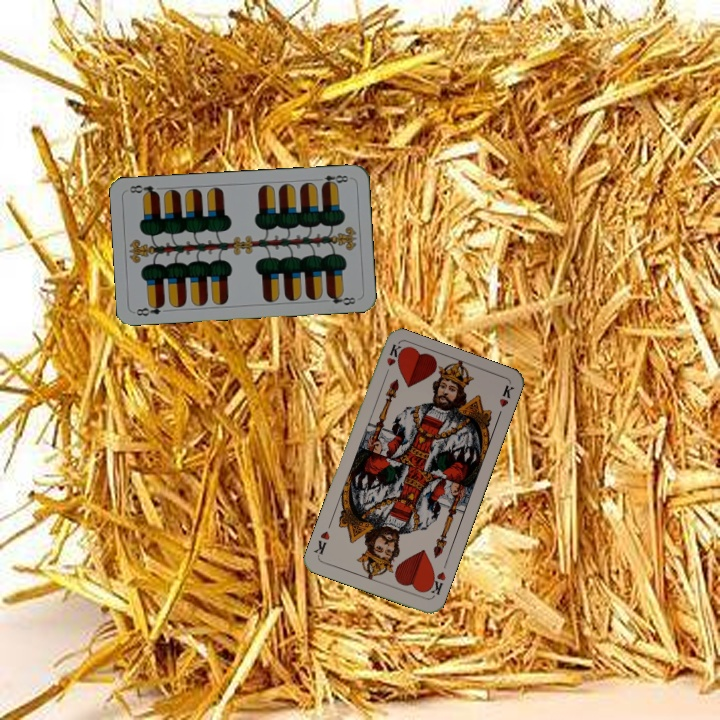E8: (312, 171, 351, 189), (132, 299, 167, 319)
HK: (380, 341, 404, 381), (423, 567, 448, 599)
